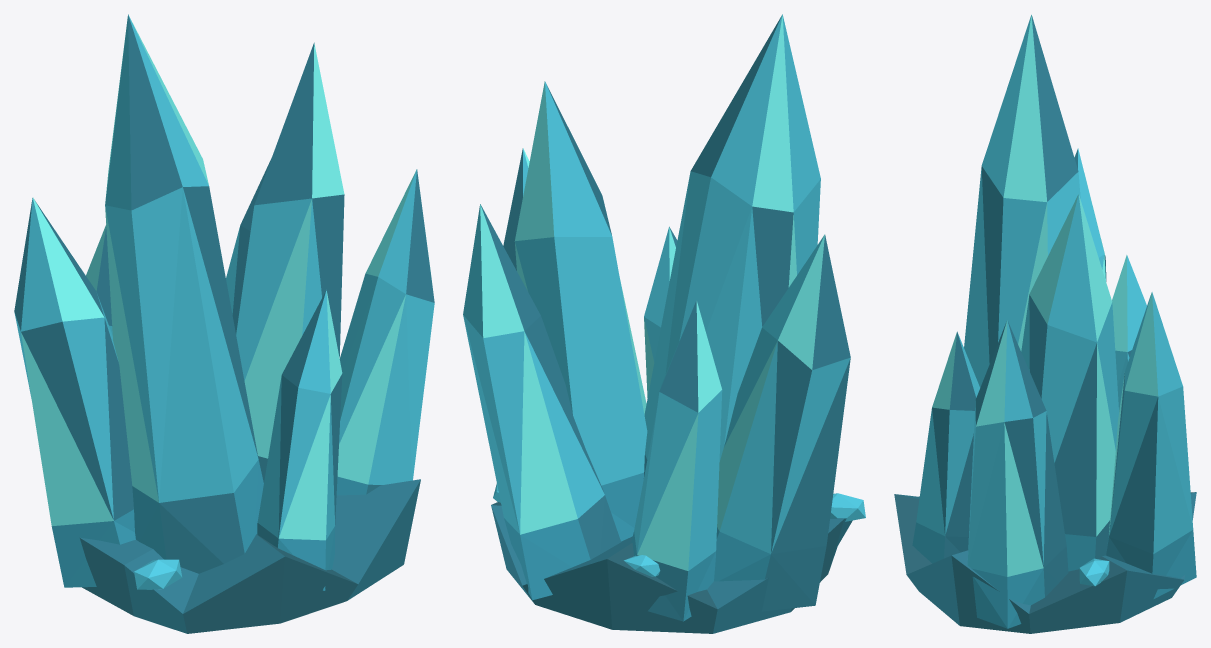
The model's file is crystal-cluster.glb.
The picture shows the model from 3 angles, left to right: view 1: azimuth 30°, elevation 25°; view 2: azimuth 150°, elevation 25°; view 3: azimuth 270°, elevation 25°; orthographic projection. The views are drawn at different scales.
Visible parts, largest first — view 1: Complete crystal deposit; view 2: Complete crystal deposit; view 3: Complete crystal deposit.
Boxes of the visible parts, <box> form: Complete crystal deposit: <box>14,14,434,633</box>; Complete crystal deposit: <box>463,14,865,633</box>; Complete crystal deposit: <box>894,14,1196,633</box>.
Bounding box in the file's own units: 0.9373 × 1.38 × 0.74.
